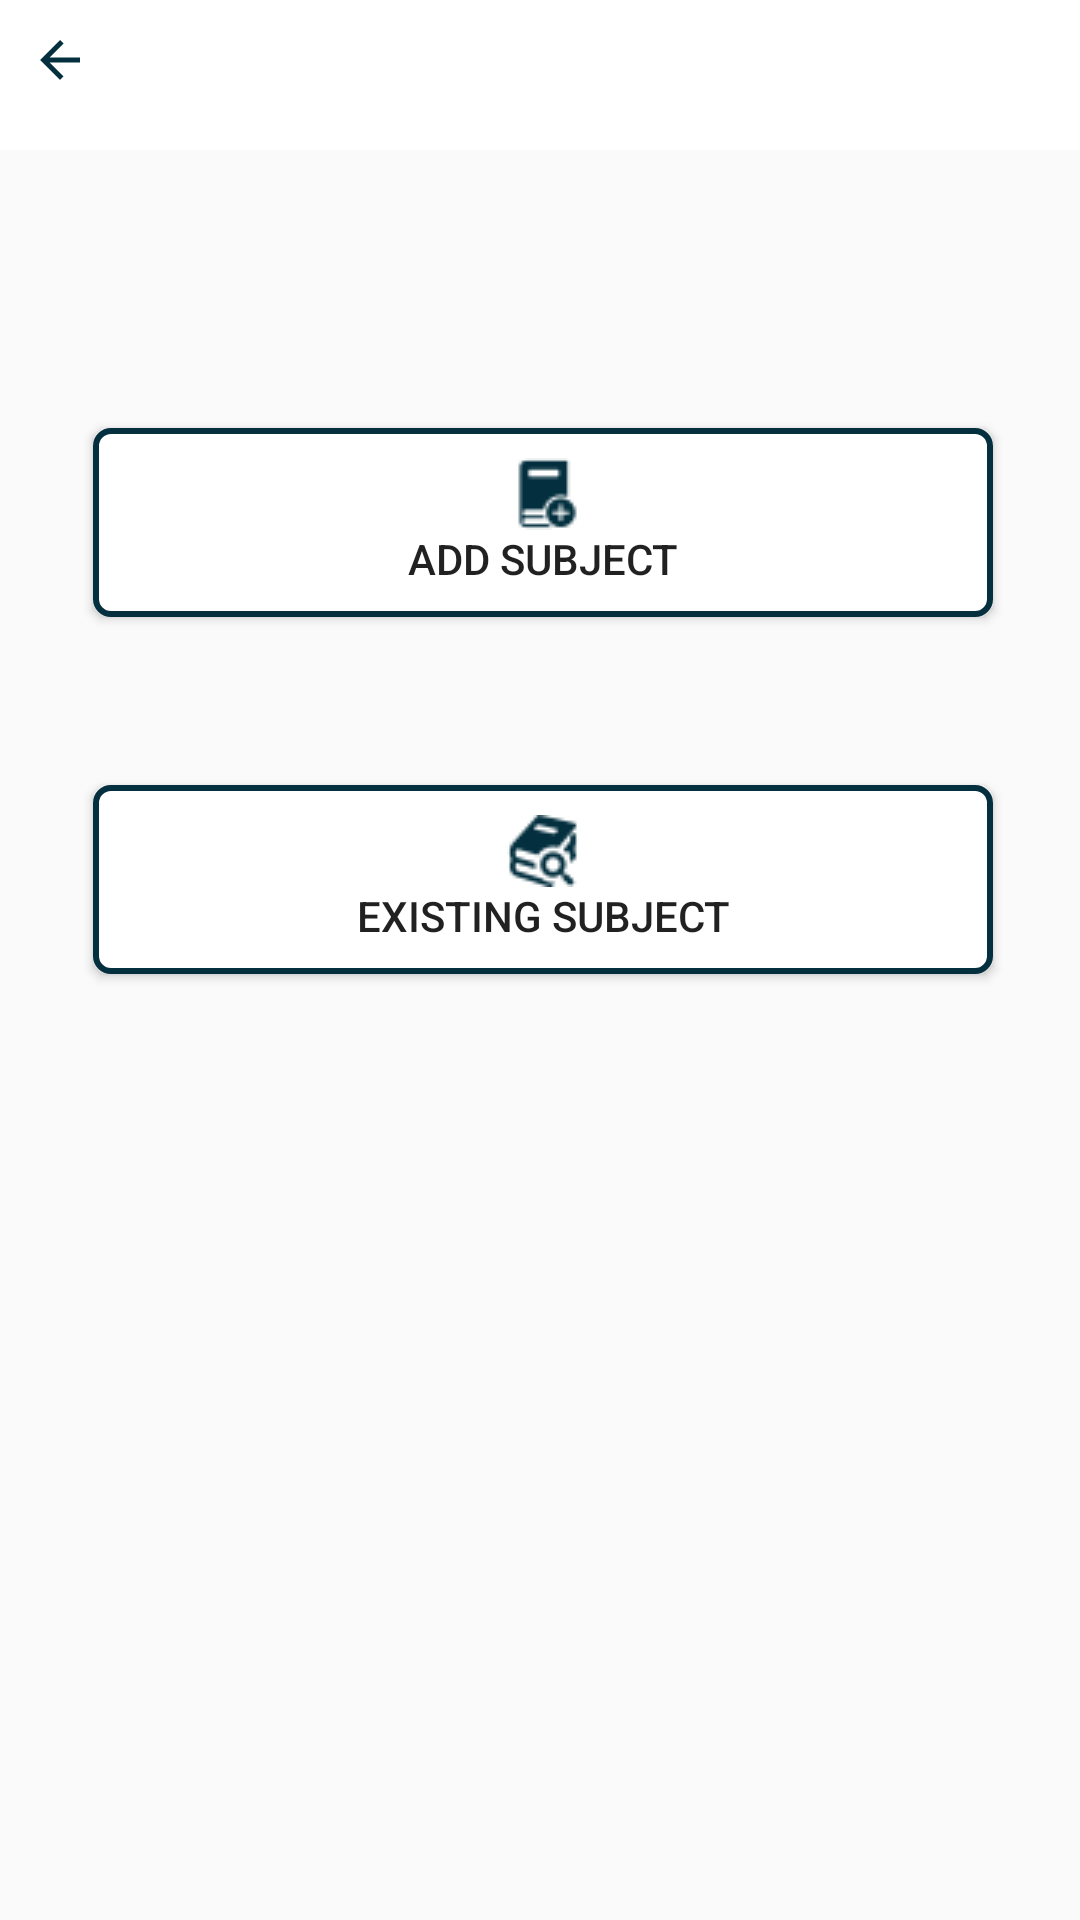

Locate icon controls on the screen. Image size 1080×1920, boxes as (x1, y1, x2, y2).
arrow back: (40, 40, 80, 80)
